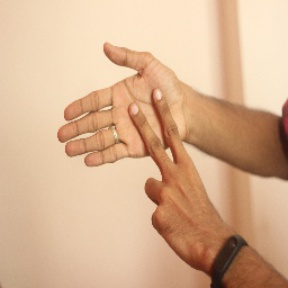N: (54, 36, 217, 225)
